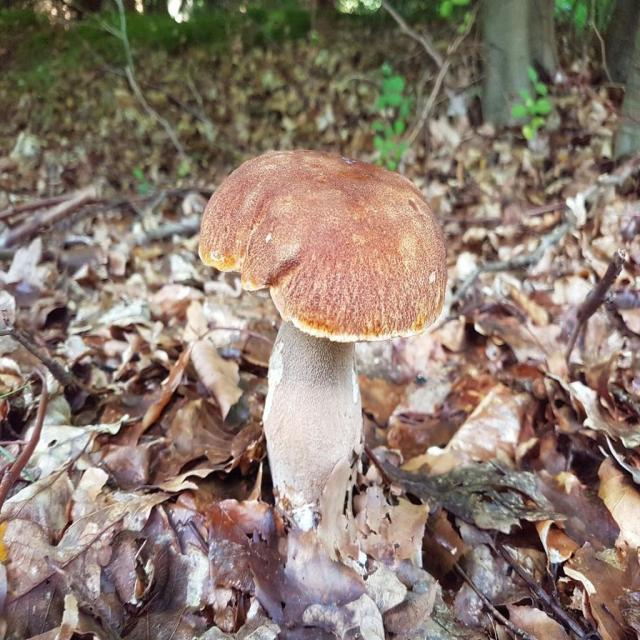Boletus: (197, 149, 447, 518)
